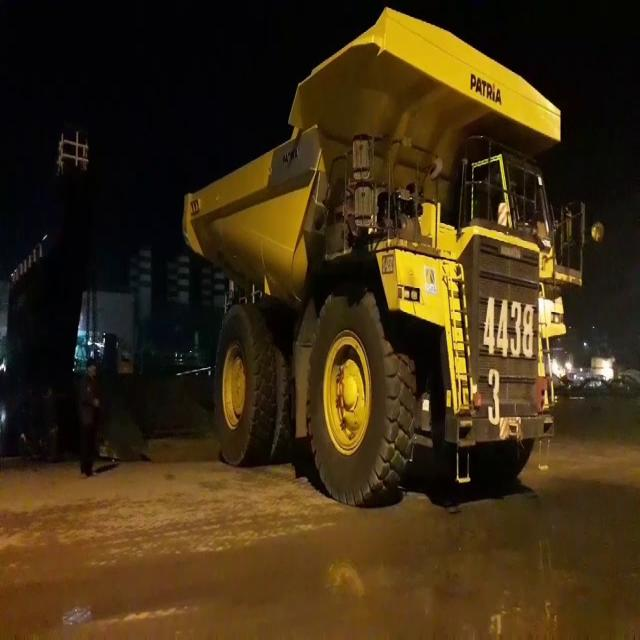light_vehicle: (164, 18, 586, 500)
